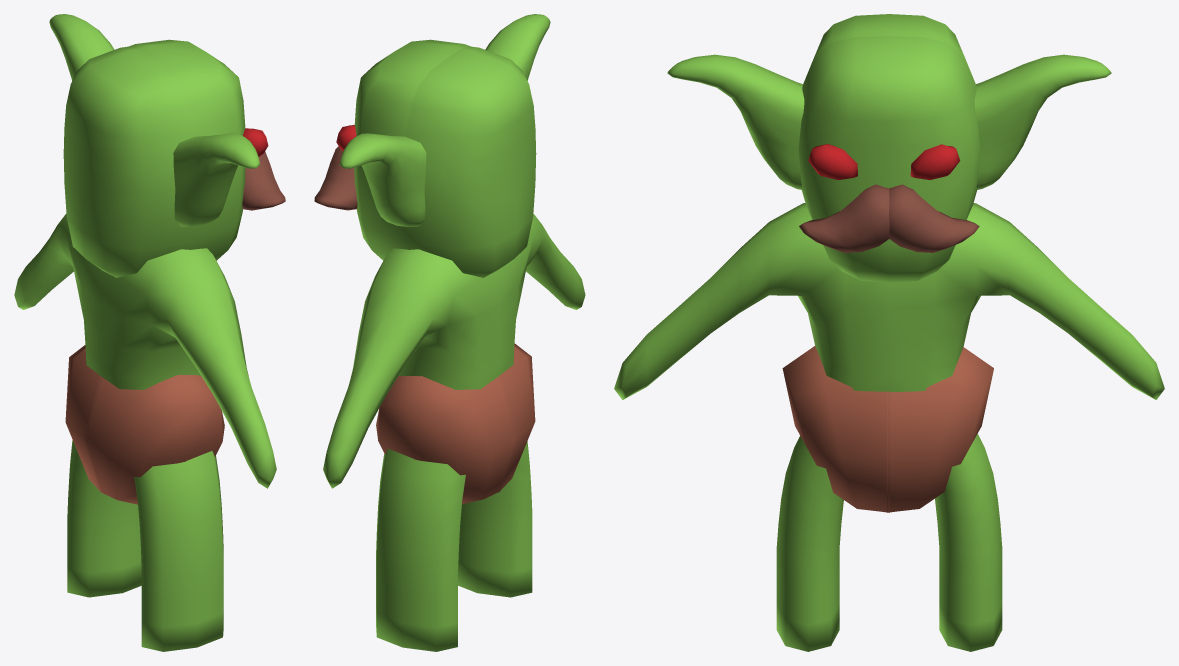
The model's file is MiniGoblin.fbx.
The picture shows the model from 3 angles, left to right: view 1: azimuth 30°, elevation 25°; view 2: azimuth 150°, elevation 25°; view 3: azimuth 270°, elevation 25°; orthographic projection. The views are drawn at different scales.
Visible parts, largest first — view 1: Cube.015, Cube.016, Cube.023, Cube.020, Cube.022, Cube.021; view 2: Cube.015, Cube.016, Cube.023, Cube.020, Cube.022; view 3: Cube.015, Cube.016, Cube.023, Cube.020, Cube.022, Cube.021.
Boxes of the visible parts, x1,y1,x2,y2 form: Cube.015: (14, 214, 276, 651); Cube.016: (63, 39, 245, 277); Cube.023: (65, 345, 224, 504); Cube.020: (49, 14, 260, 227); Cube.022: (242, 151, 285, 210); Cube.021: (243, 128, 268, 156); Cube.015: (323, 214, 585, 651); Cube.016: (354, 39, 536, 277); Cube.023: (376, 343, 535, 503); Cube.020: (339, 14, 550, 226); Cube.022: (314, 146, 357, 210); Cube.015: (614, 203, 1164, 651); Cube.016: (798, 14, 980, 282); Cube.023: (782, 346, 993, 512); Cube.020: (667, 54, 1111, 189); Cube.022: (799, 184, 979, 252); Cube.021: (808, 144, 960, 180).
Size of the model in its own units: 152 by 448 by 372.
